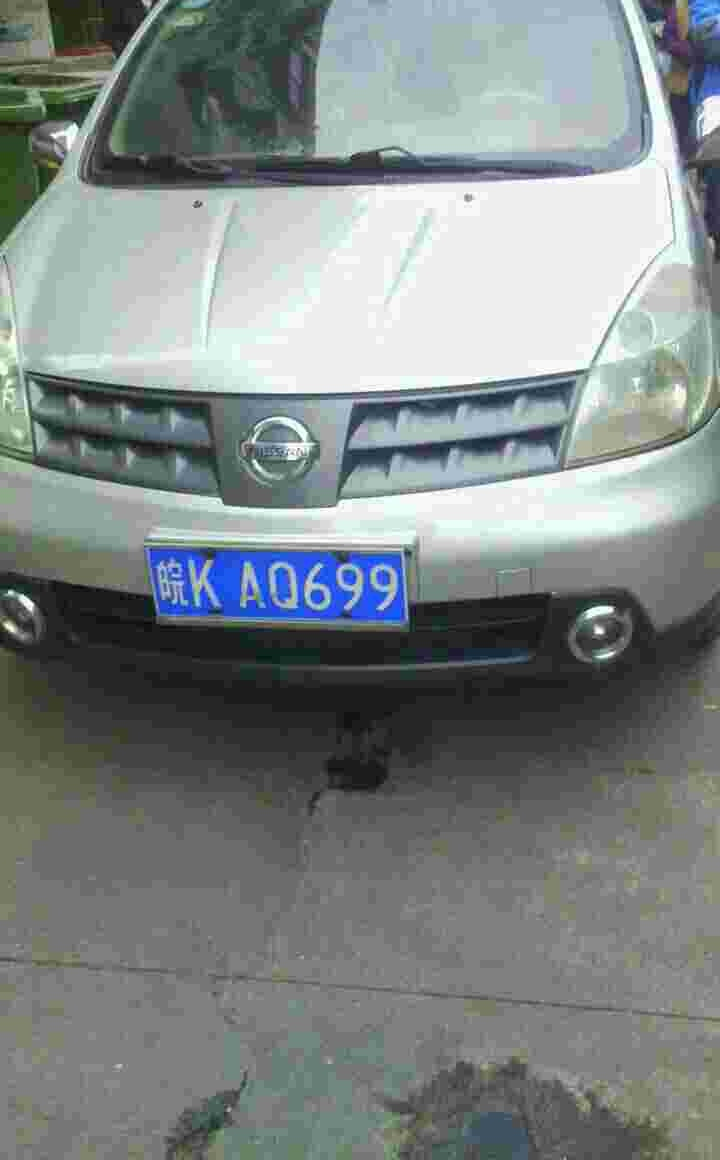plate: (144, 542, 419, 629)
